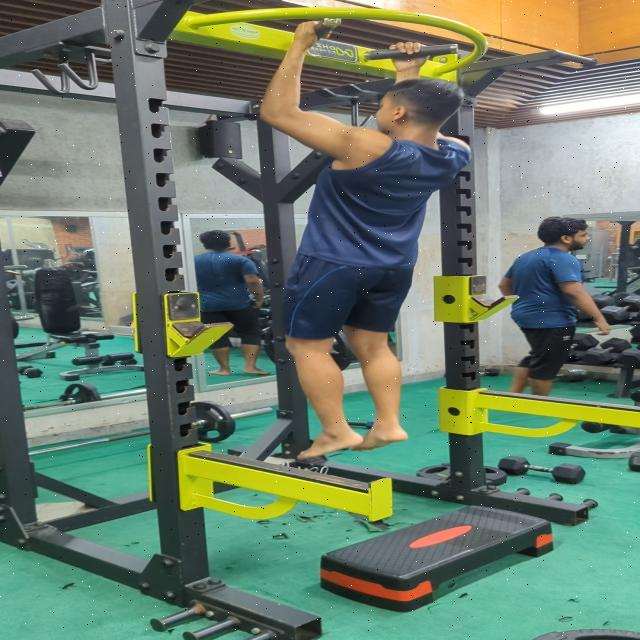Normal_PullUps: (256, 13, 473, 463)
